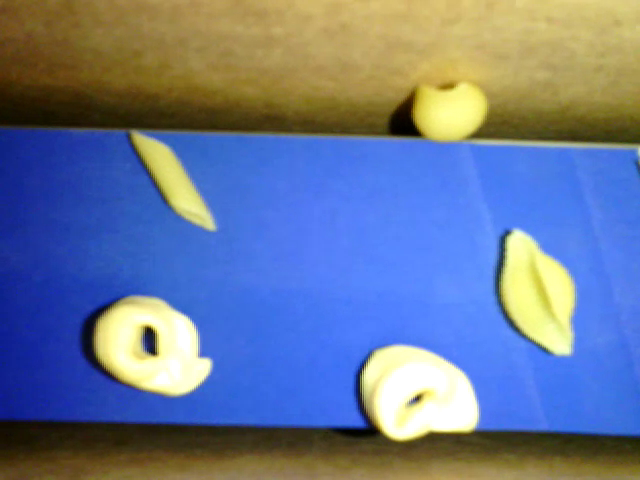penne: (128, 129, 216, 232)
shell: (498, 228, 576, 355), (410, 82, 489, 142)
tortellini: (95, 294, 211, 397), (360, 343, 477, 438)
